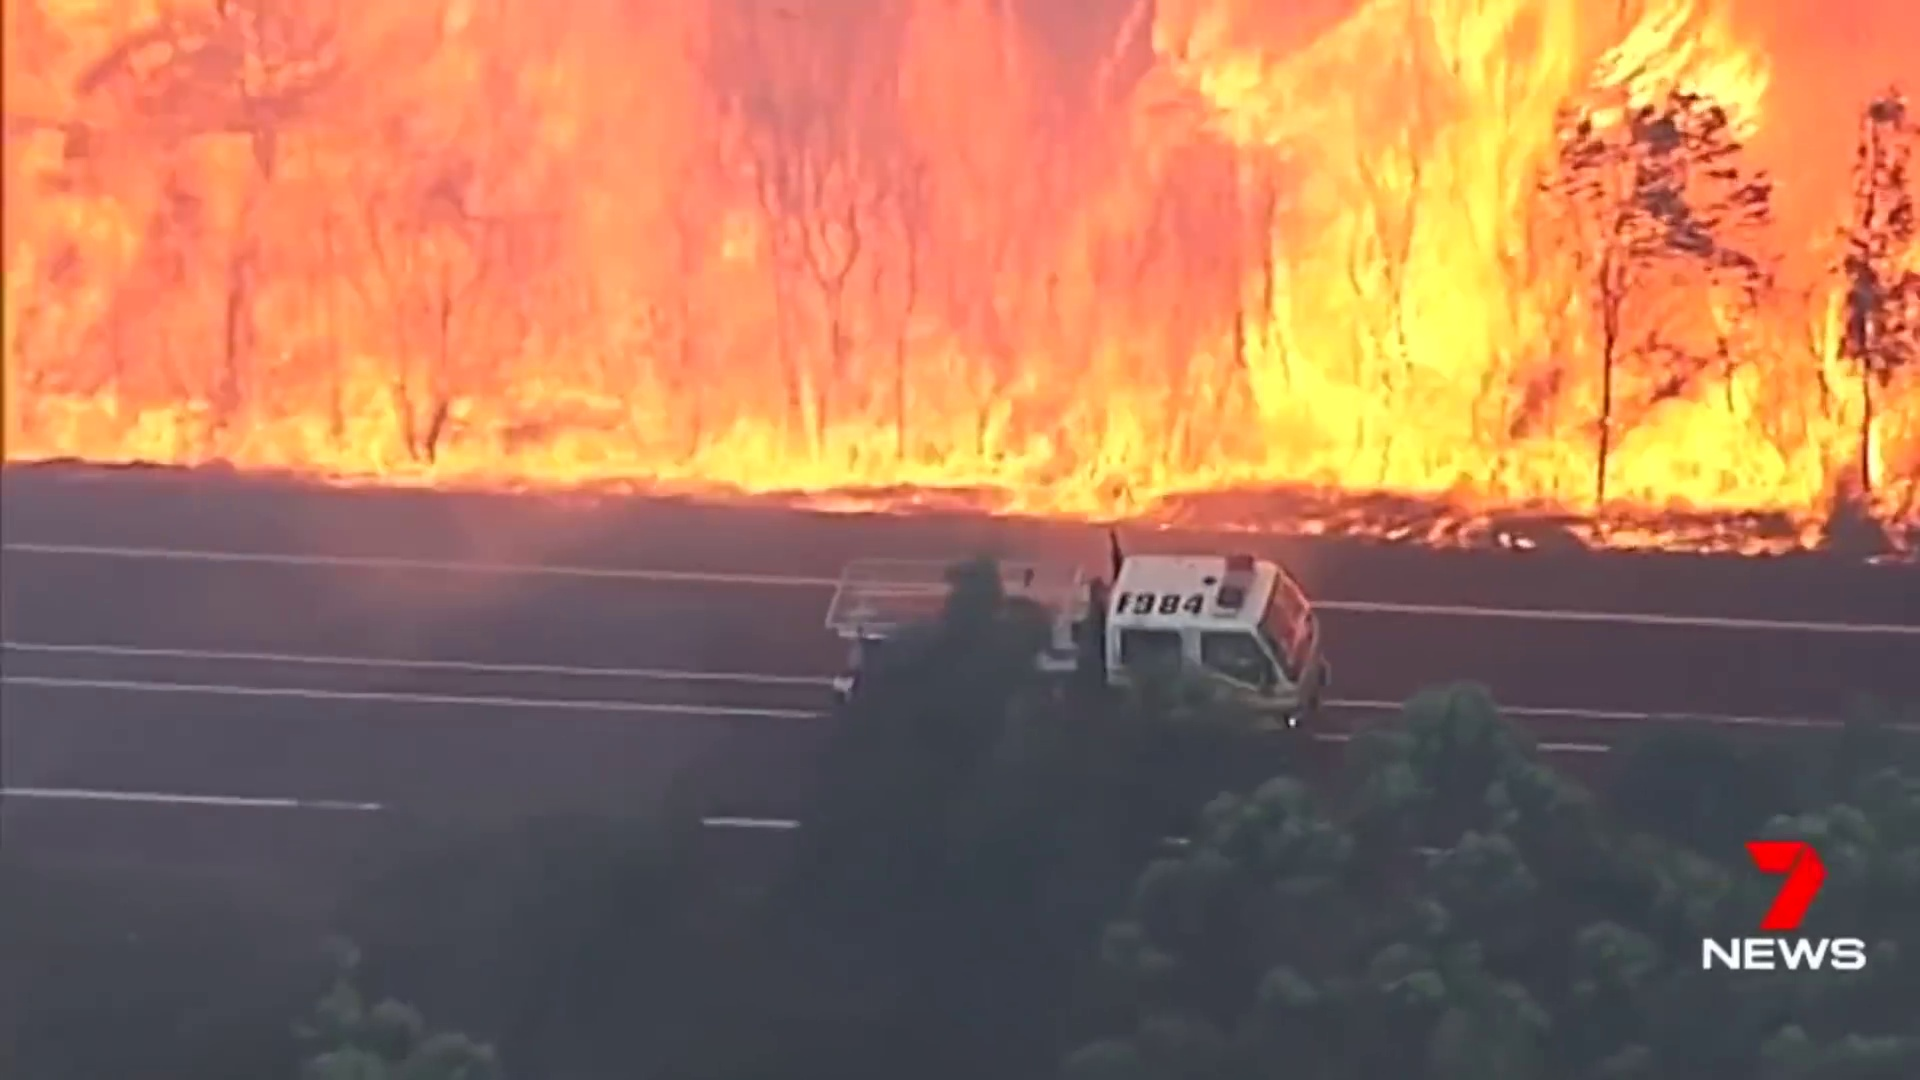fire: (1168, 1, 1797, 539), (1, 396, 1160, 514), (1813, 315, 1883, 492)
